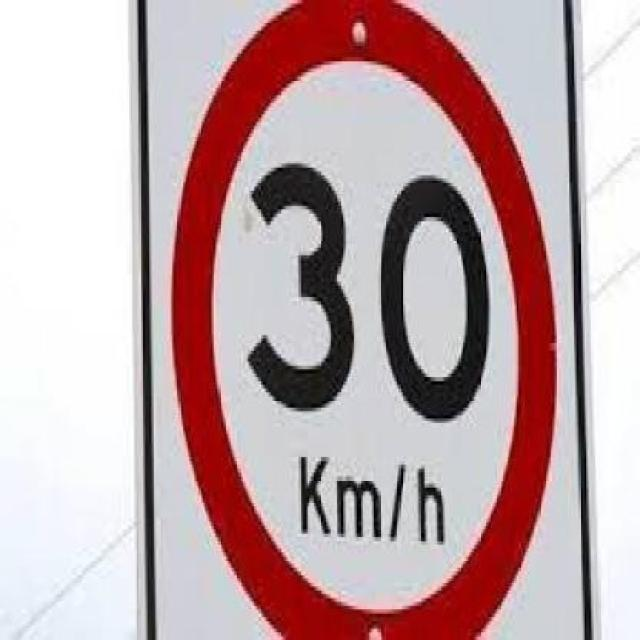forb_speed_over_30: (179, 0, 556, 640)
